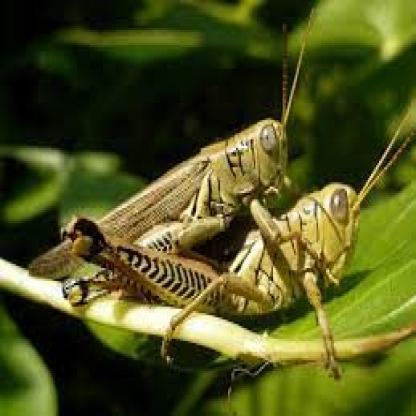grasshopper: (64, 136, 408, 380), (29, 29, 302, 276)
